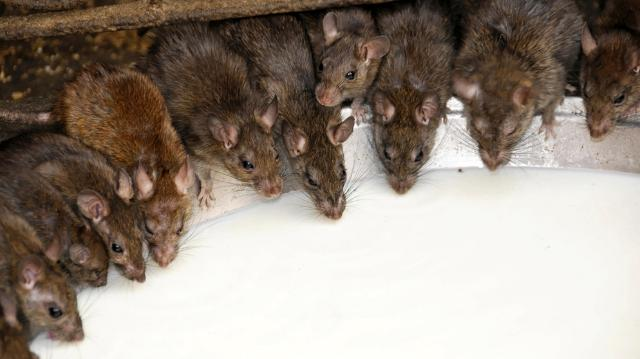rat: (452, 2, 568, 178), (366, 19, 450, 199), (193, 64, 287, 205), (127, 127, 200, 274), (0, 241, 92, 351), (282, 109, 360, 235), (72, 163, 152, 285), (307, 3, 391, 113), (570, 19, 640, 144), (42, 194, 118, 292)
